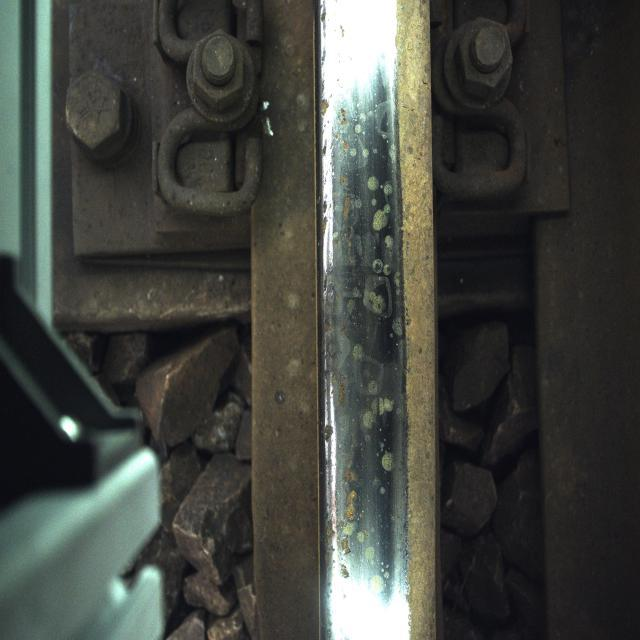scar: (320, 55, 401, 574)
